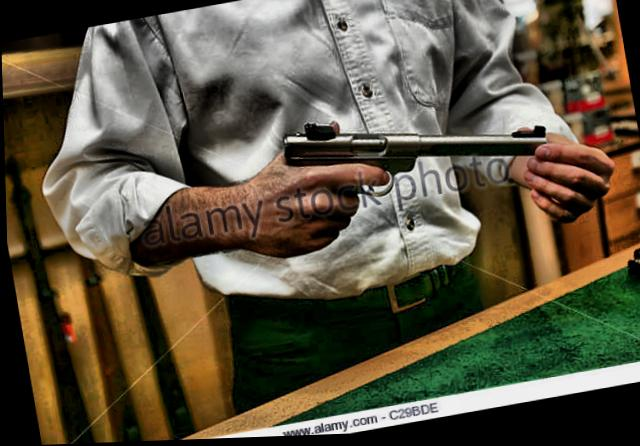pistol: (267, 76, 559, 267)
